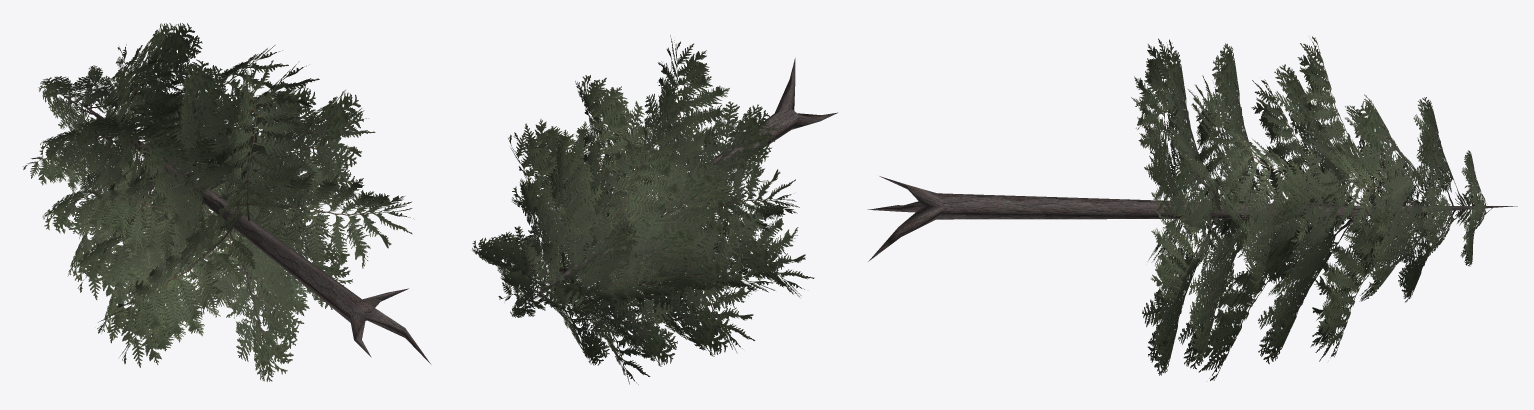
Rendered from Conif_02.fbx.
3 renders of one model, left to right at view 1: azimuth 30°, elevation 25°; view 2: azimuth 150°, elevation 25°; view 3: azimuth 270°, elevation 25°, orthographic. The views are drawn at different scales.
Visible parts, largest first — view 1: conifer_02; view 2: conifer_02; view 3: conifer_02.
Boxes of the visible parts, bbox=[...] form: conifer_02: bbox=[23, 23, 430, 381]; conifer_02: bbox=[472, 35, 837, 384]; conifer_02: bbox=[867, 36, 1517, 380].
Size of the model in its own units: 11.02 by 10.58 by 18.01.
